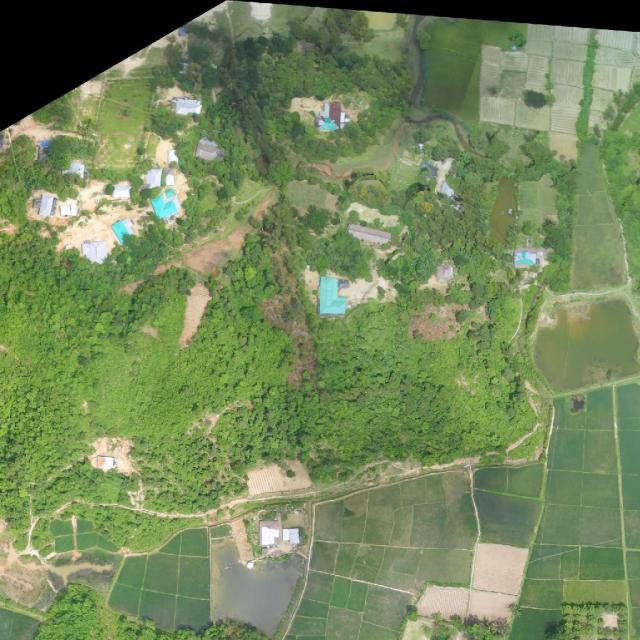building: (0, 0, 224, 130)
